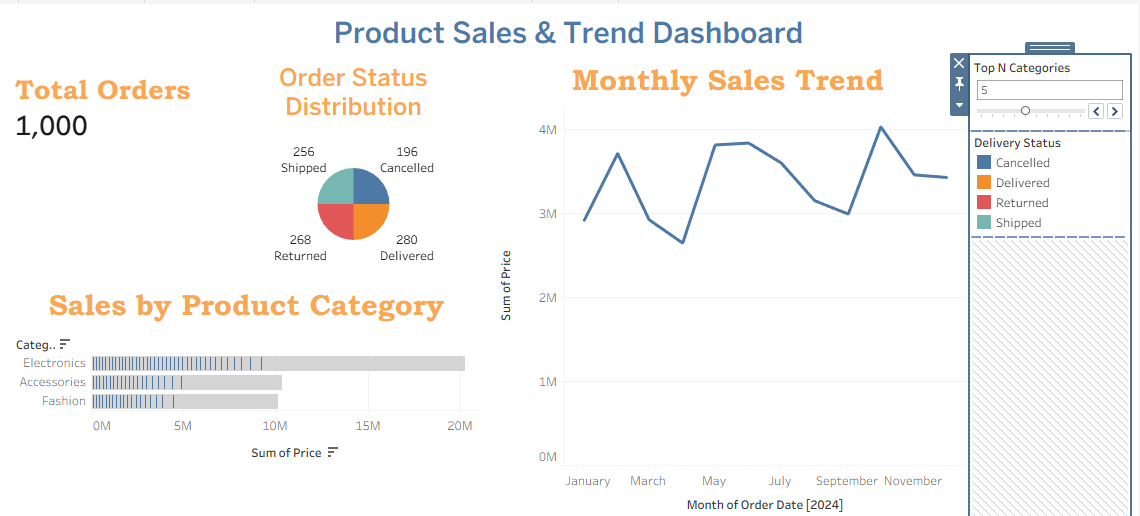

The dashboard page shown, as its layout file describes it:
{"tool":"tableau","page":{"name":"Dashboard 2","canvas":[1000,1000],"units":"permille","ordinal":1},"visuals":[{"type":"title","box":[7,15.2,986,81.4]},{"type":"worksheet","title":"Sheet 3 ","mark":"Automatic","box":[7,96.6,187,426.1]},{"type":"worksheet","title":"Sheet 8","mark":"Pie","box":[194,96.6,234,426.1]},{"type":"worksheet","title":"Sheet 1","mark":"Line","rows":["Price"],"cols":["Order_Date"],"box":[428,96.6,424.5,888.3]},{"type":"parameter","param":"[Parameters].[Parameter 1]","box":[852.5,96.6,140.5,142]},{"type":"legend","title":"Sheet 8","param":"[federated.0xcjsfk0z0kvfe10pzn6f1iiynx6].[none:Delivery_Status:nk]","box":[852.5,238.6,140.5,200.8]},{"type":"worksheet","title":"Sheet 5","mark":"Bar","rows":["Category"],"cols":["Price"],"box":[7,522.7,421,462.1]}]}

Visuals, with their boxes on the dashboard's canvas, which has no fixed pixel size, in thousandths of its width and height (x1, y1, x2, y2). These are canvas units, not pixel positions in the 1140x516 screenshot, which may show the page scaled, cropped or inside an application window:
title: x1=7, y1=15, x2=993, y2=97
"Sheet 3 " worksheet: x1=7, y1=97, x2=194, y2=523
"Sheet 8" worksheet (Pie marks): x1=194, y1=97, x2=428, y2=523
"Sheet 1" worksheet (Line marks): x1=428, y1=97, x2=852, y2=985
parameter: x1=852, y1=97, x2=993, y2=239
"Sheet 8" legend: x1=852, y1=239, x2=993, y2=439
"Sheet 5" worksheet (Bar marks): x1=7, y1=523, x2=428, y2=985
